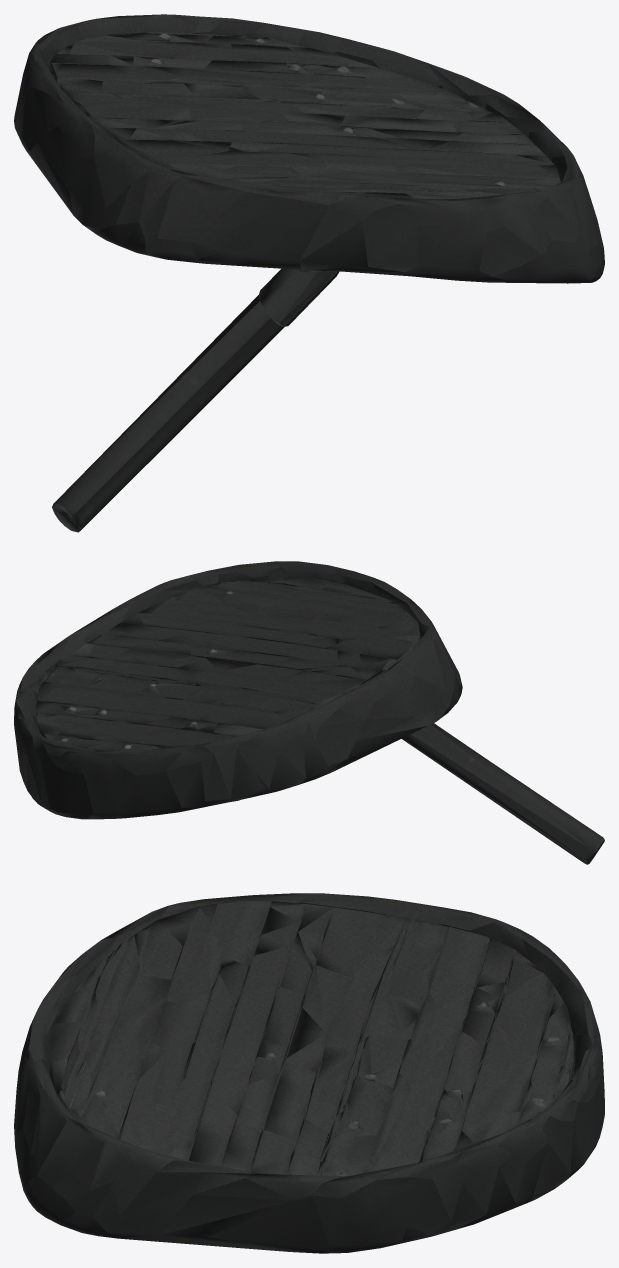
File: club-wood.glb
3 views of the same model, one above another, from view 1: azimuth 30°, elevation 25°; view 2: azimuth 150°, elevation 25°; view 3: azimuth 270°, elevation 25° (orthographic). The views are drawn at different scales.
Visible parts, largest first — view 1: club-wood; view 2: club-wood; view 3: club-wood.
Part boxes in pixels (x1,y1,x2,y2): club-wood: (14,14,604,532); club-wood: (14,561,604,864); club-wood: (14,893,604,1253).
Bounding box in the file's own units: 1.03 × 0.4936 × 0.927.
Materials: 1 (1 with a texture image).
